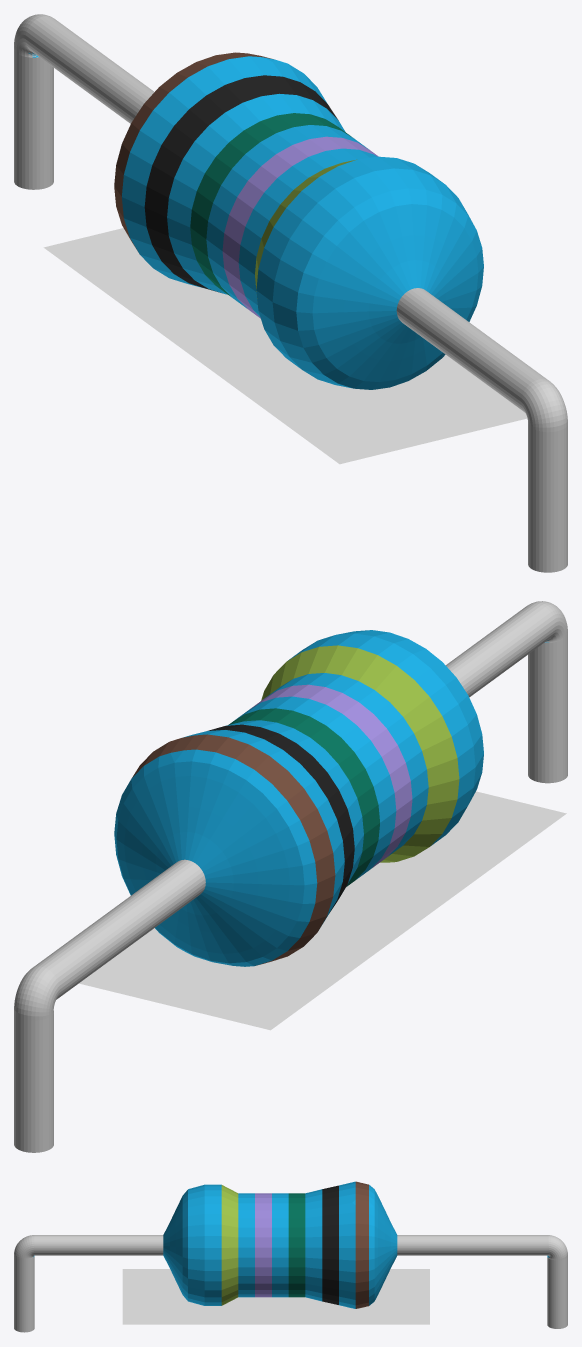
File: R2_blue_2.gltf
3 views of the same model, one above another, from view 1: azimuth 30°, elevation 25°; view 2: azimuth 150°, elevation 25°; view 3: azimuth 270°, elevation 25° (orthographic). The views are drawn at different scales.
Parts seen in each view (by area): view 1: R2_blue_2, R2_blue_2_plane; view 2: R2_blue_2, R2_blue_2_plane; view 3: R2_blue_2, R2_blue_2_plane.
Part boxes in pixels (left/top/right/bottom): R2_blue_2: left=14, top=14, right=567, bottom=572; R2_blue_2_plane: left=43, top=228, right=527, bottom=464; R2_blue_2: left=14, top=601, right=567, bottom=1152; R2_blue_2_plane: left=79, top=791, right=566, bottom=1030; R2_blue_2: left=14, top=1181, right=567, bottom=1332; R2_blue_2_plane: left=122, top=1269, right=429, bottom=1324.
Bounding box in the file's own units: 0.0161 × 0.0189 × 0.0676.
